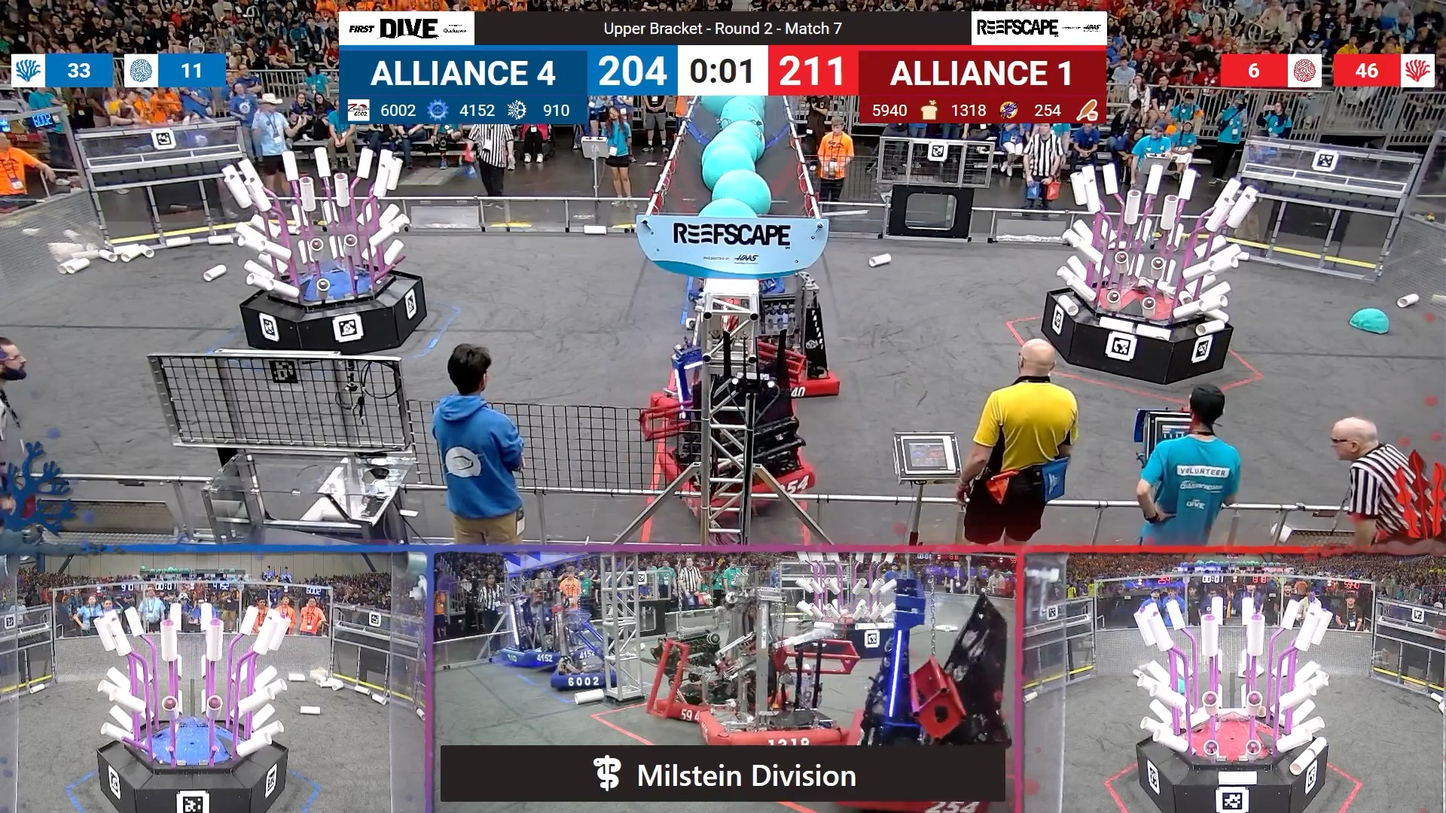bumpers: (639, 434, 819, 520), (702, 713, 855, 749), (777, 356, 851, 400), (543, 665, 617, 692), (493, 653, 566, 673)
